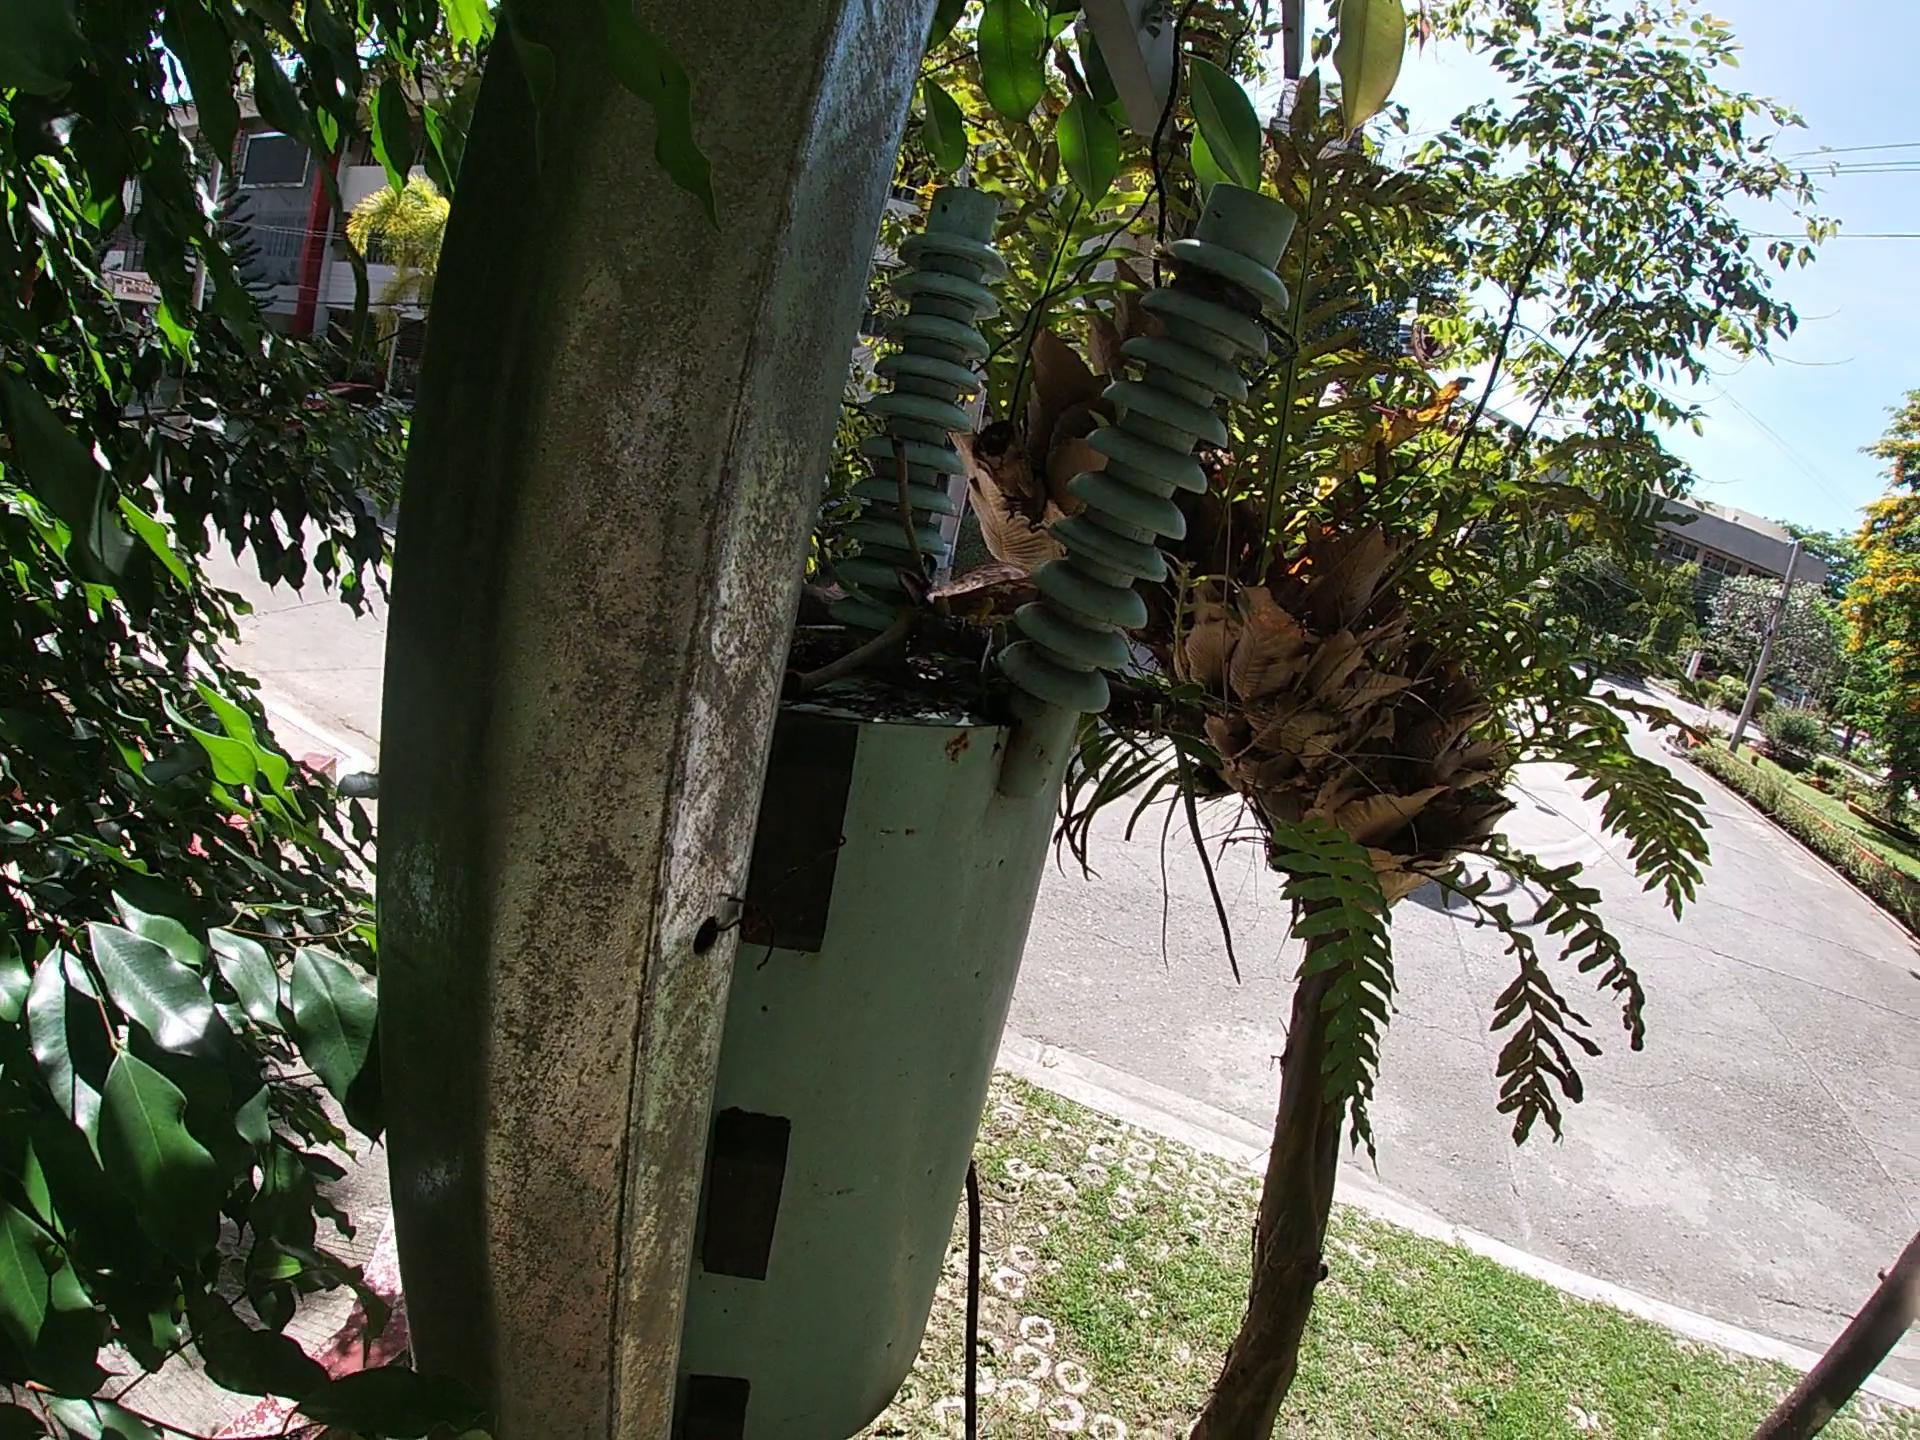branch with leaves: (825, 551, 1491, 824)
mahogany fruit: (906, 479, 1063, 641)
tree branch: (689, 551, 900, 784)
